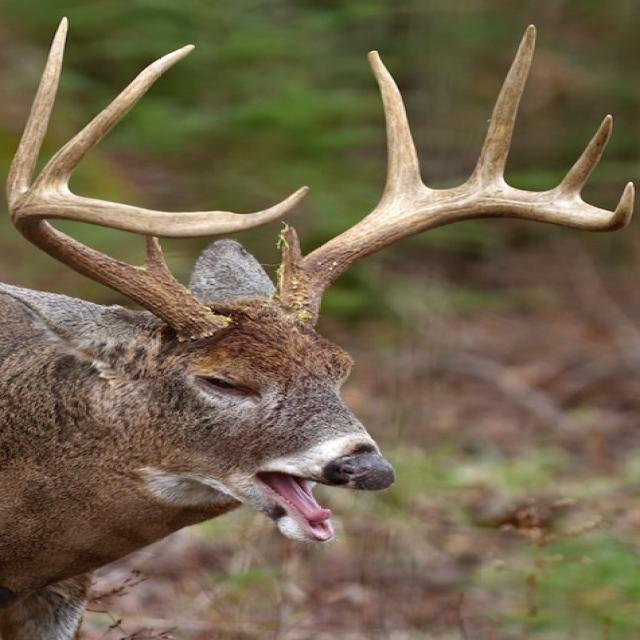L-F: (278, 181, 635, 330)
L-G1: (279, 225, 305, 292)
L-G2: (367, 50, 431, 195)
L-G3: (466, 25, 537, 185)
L-G4: (554, 114, 613, 195)
R-F: (9, 185, 310, 343)
R-G1: (140, 237, 174, 277)
R-G2: (4, 15, 69, 212)
R-G3: (32, 44, 196, 193)
